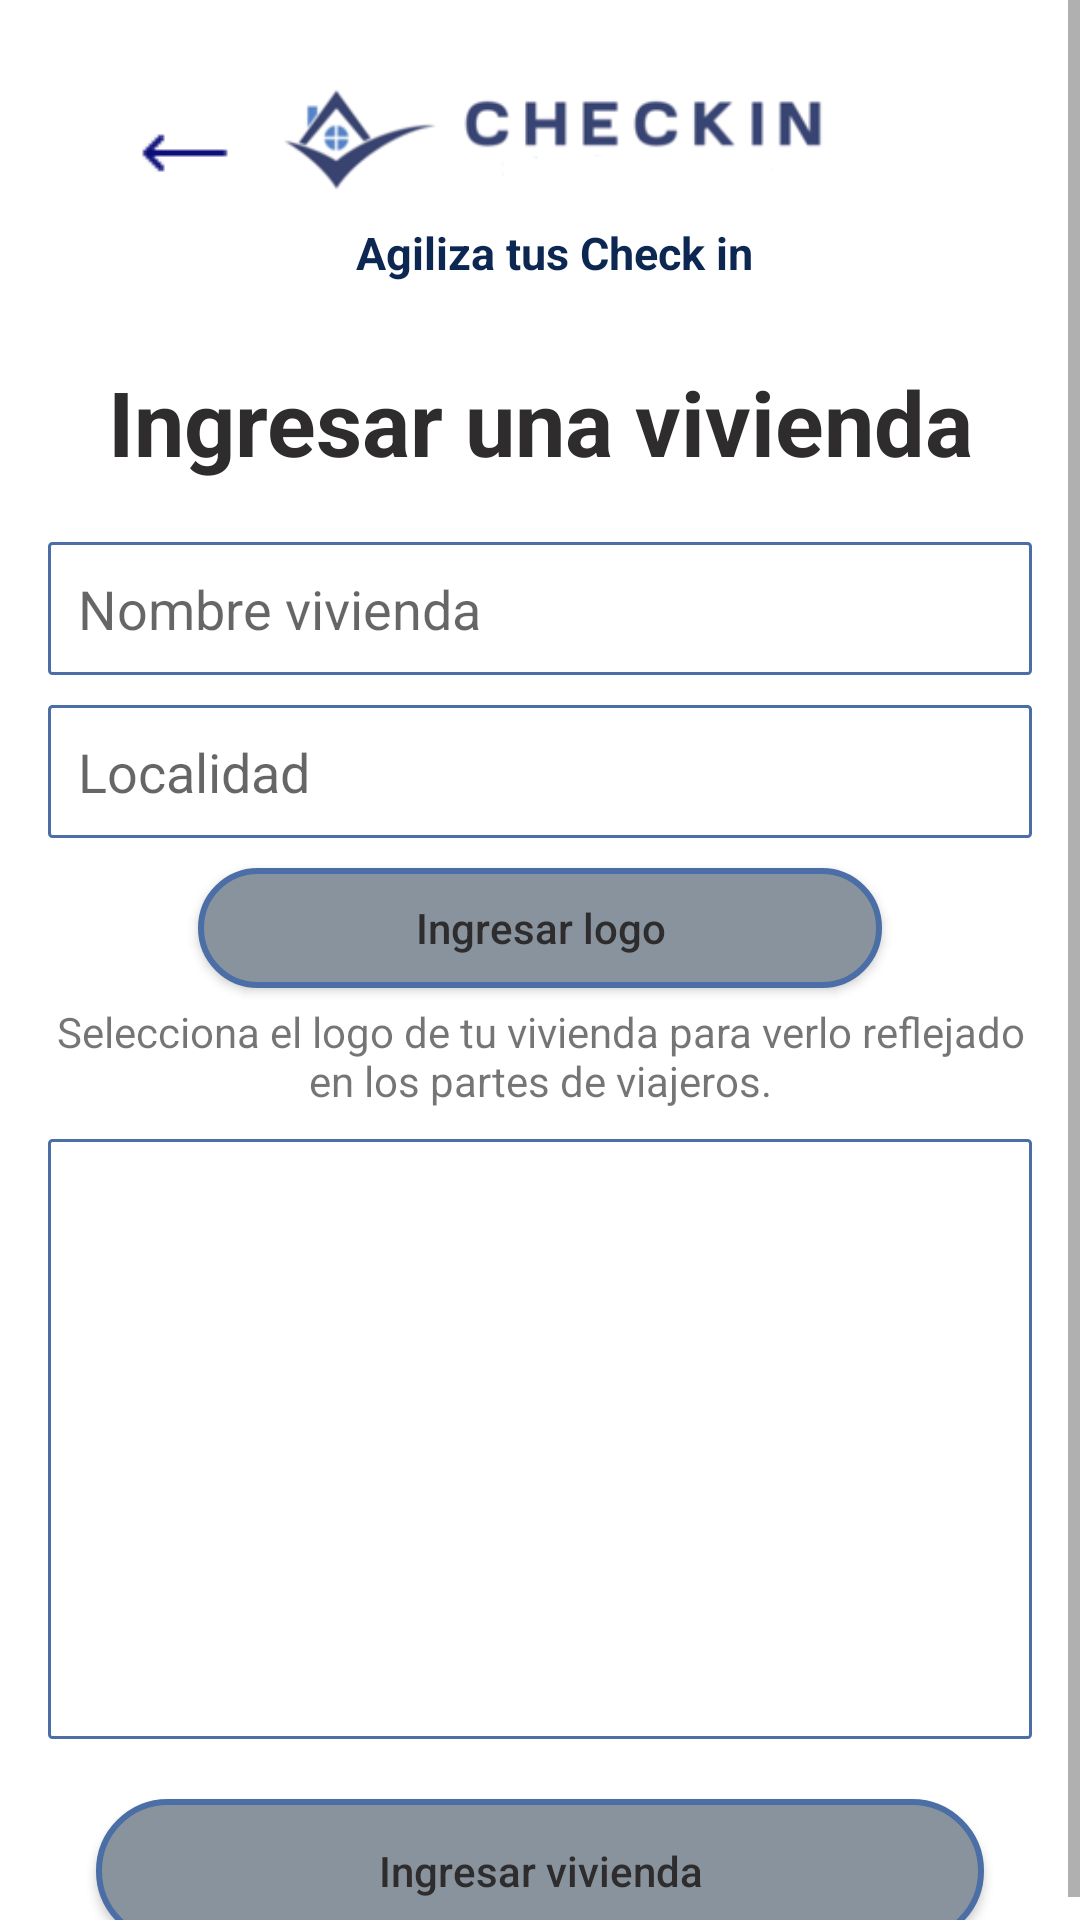

Icons on this 1080px×1920px Android screen, each with its box as (x1, y1, x2, y2):
atras: (142, 134, 228, 172)
